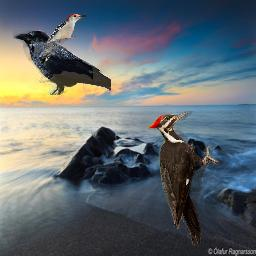Crow: (13, 30, 111, 95)
Woodpecker: (147, 111, 219, 247), (40, 13, 88, 65)
